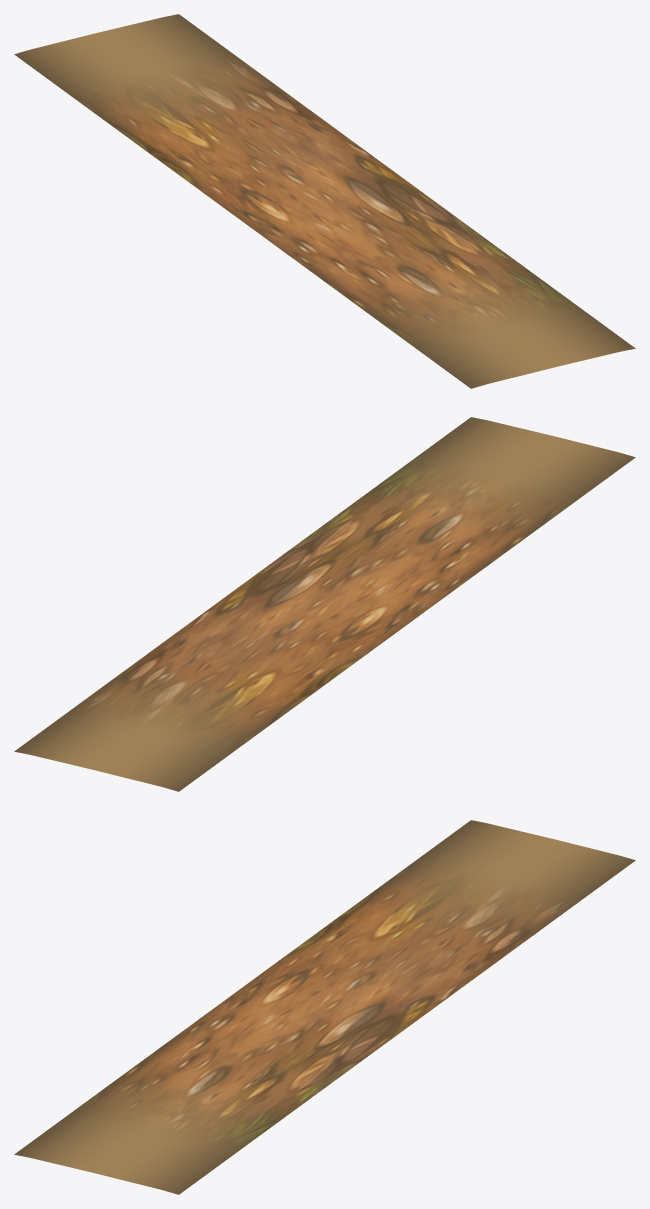
File: hex_path_straight.glb
3 renders of one model, top to bottom at view 1: azimuth 30°, elevation 25°; view 2: azimuth 150°, elevation 25°; view 3: azimuth 330°, elevation 25°, orthographic.
Visible parts, largest first — view 1: Independent painted path ribbon; view 2: Independent painted path ribbon; view 3: Independent painted path ribbon.
Boxes of the visible parts, x1,y1,x2,y2 form: Independent painted path ribbon: (14, 14, 635, 388); Independent painted path ribbon: (14, 417, 635, 791); Independent painted path ribbon: (14, 820, 635, 1194).
Size of the model in its own units: 0.92 by 0.006 by 4.42.
Materials: 1 (1 with a texture image).
